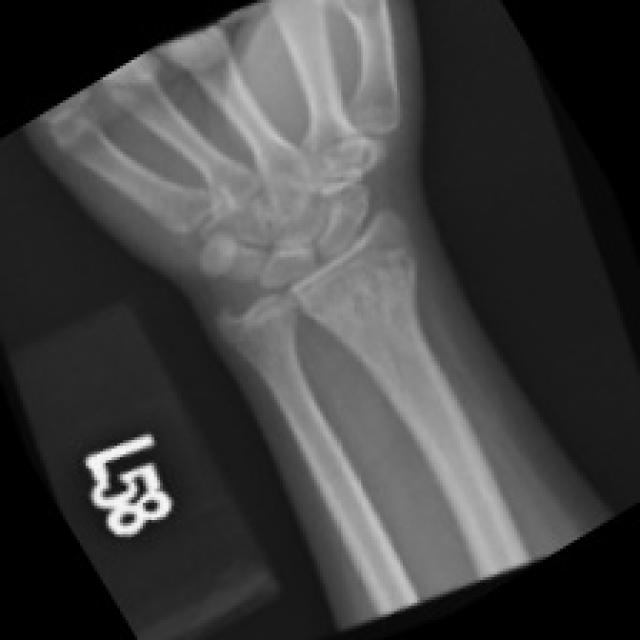fracture: (189, 258, 341, 396)
